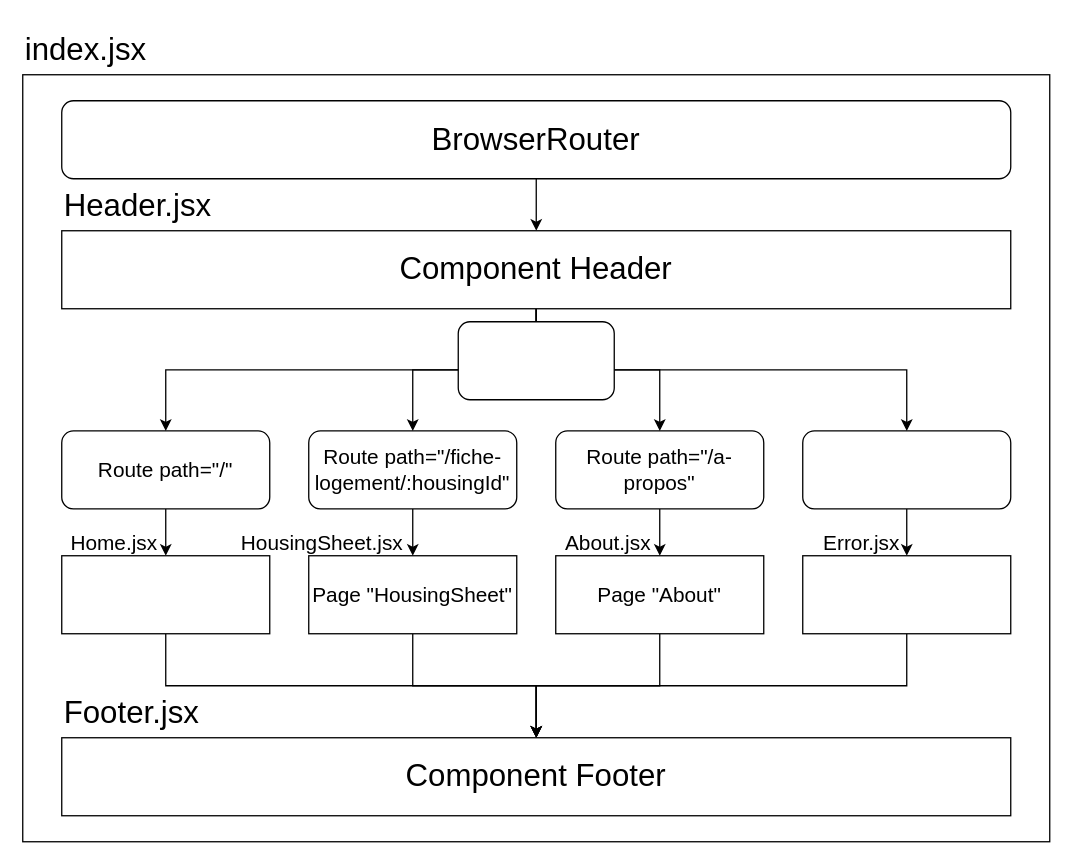
Image size: 1073x864. Some labels were removed from this diagram. The shapes that lost their labels are listed below. From the top down, each one's centre as x and y in pixels, then its label:
pixel 535 360: Routes
pixel 906 469: Route path="*"
pixel 165 594: Page "Home"
pixel 906 594: Page "Error"
